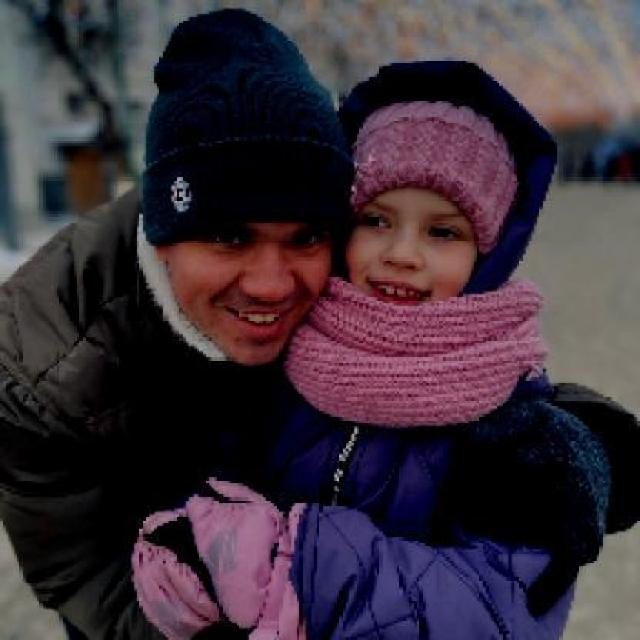child: (128, 57, 592, 637)
